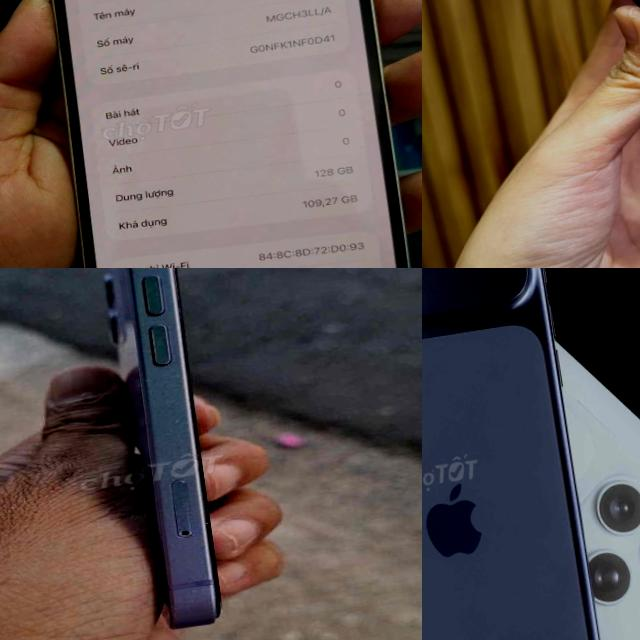gen_12_13: (33, 0, 422, 268), (66, 268, 283, 640)
gen_17: (422, 268, 623, 640), (484, 0, 640, 251)
scratch: (144, 373, 207, 468)
